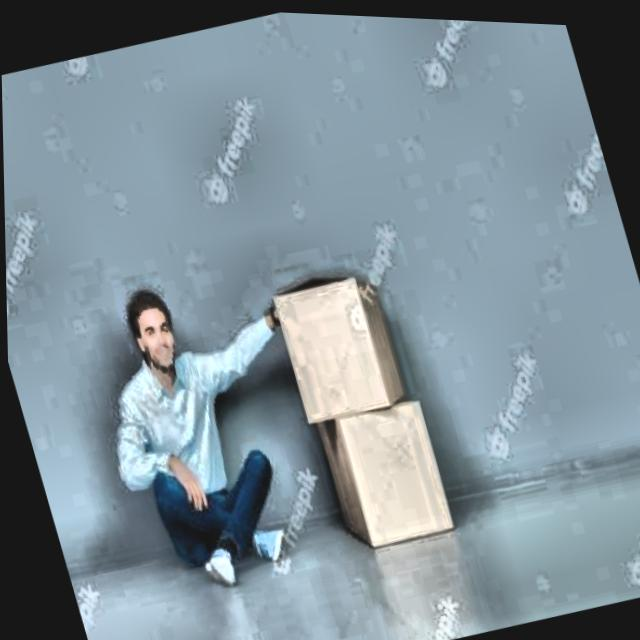Cardbox: (270, 264, 451, 554)
